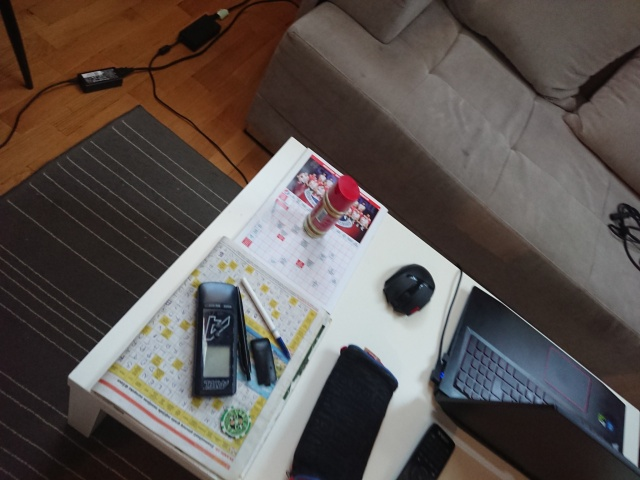Kotanyi Curry Spices Mix 70g: (301, 173, 361, 242)
